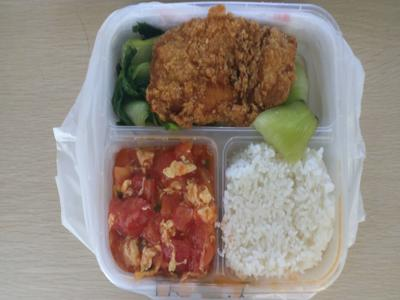jdxhs: (108, 143, 216, 281)
rice: (223, 143, 341, 291)
